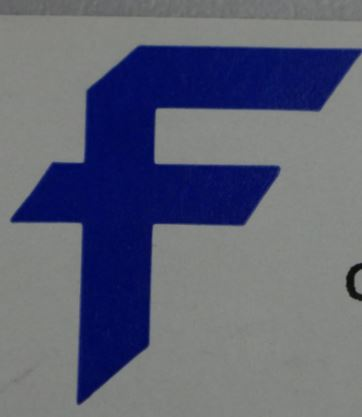Fisher: (10, 43, 361, 409)
